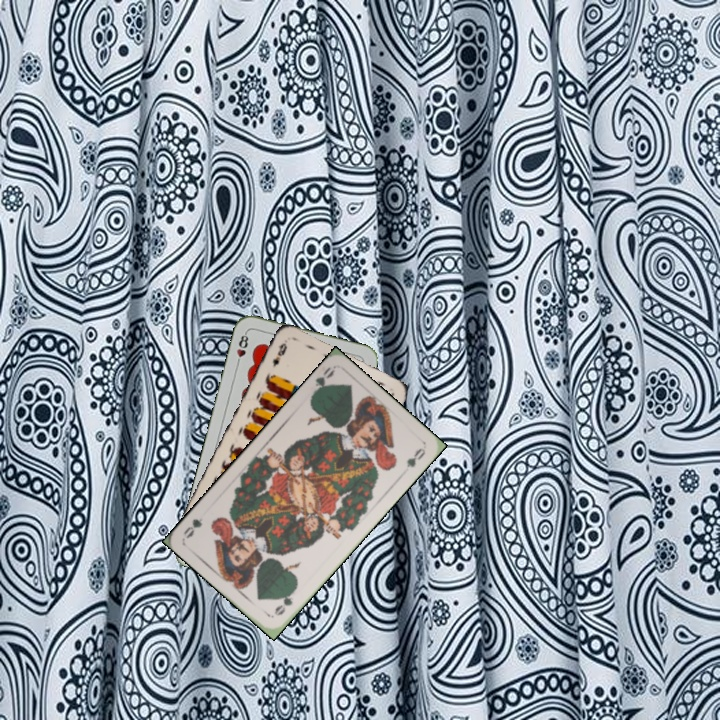E9: (268, 339, 290, 370)
GO: (307, 366, 337, 399), (270, 585, 299, 618)
H8: (233, 328, 251, 368)
